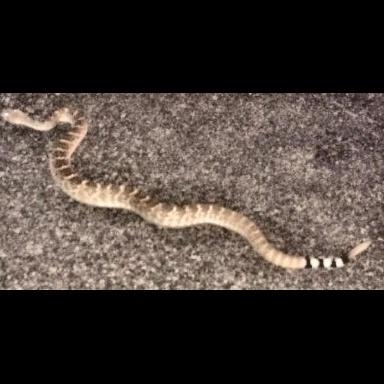snake: (0, 94, 344, 268)
